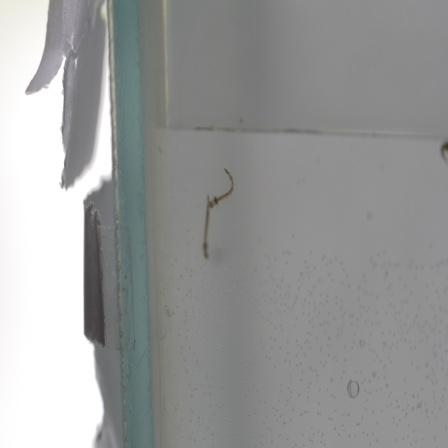Jentik-Nyamuk: (199, 167, 241, 262)
